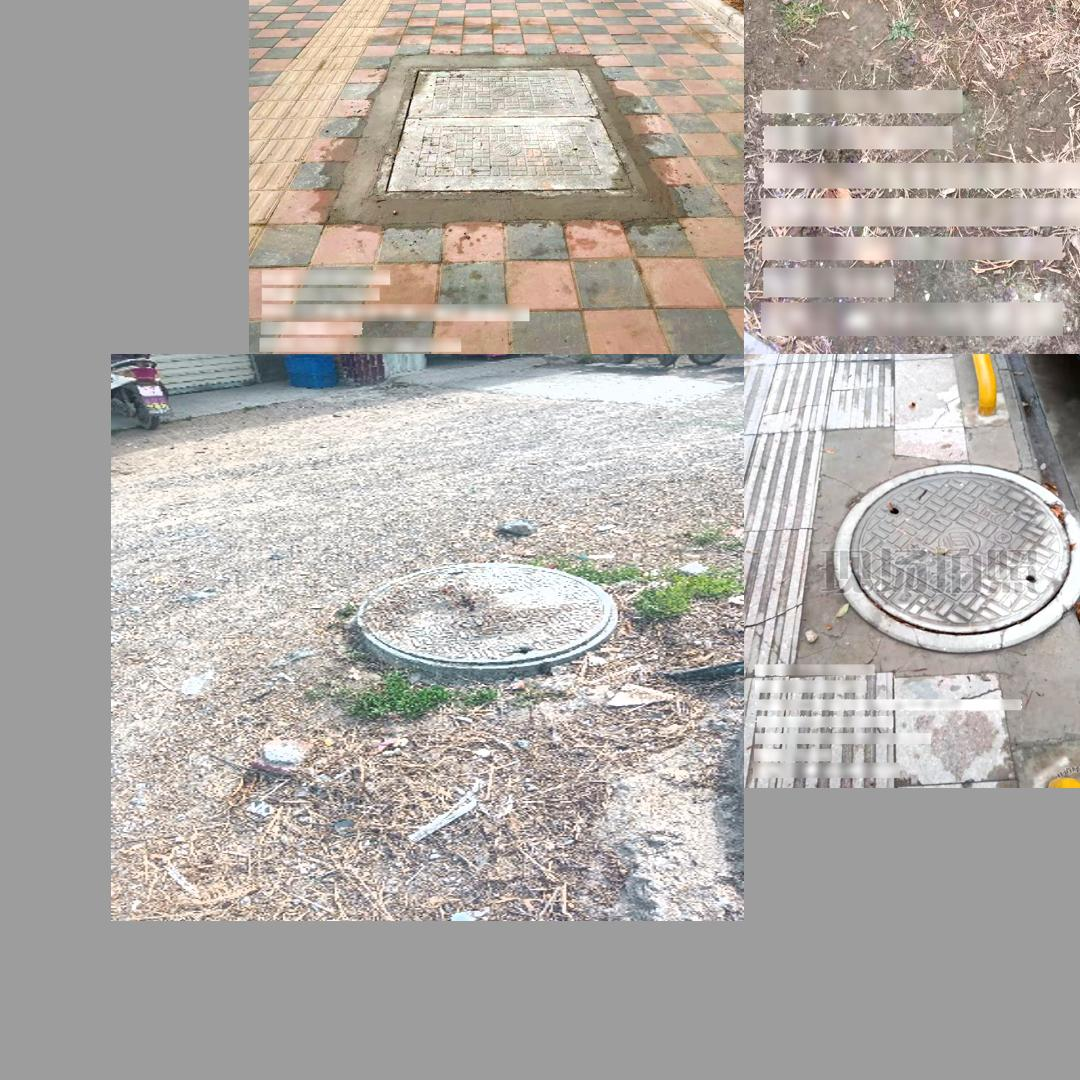good: (834, 463, 1080, 652), (367, 66, 649, 198), (355, 562, 617, 669)
